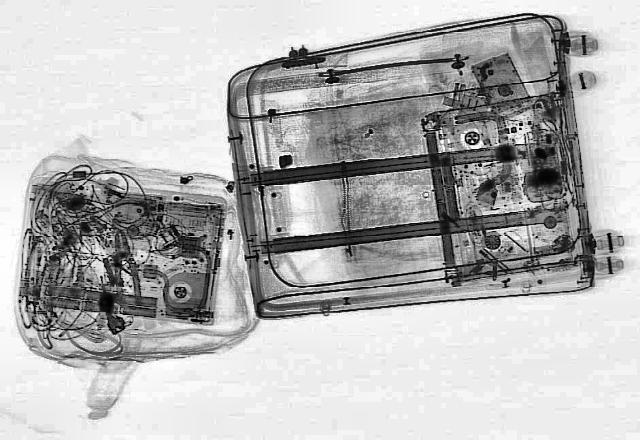Pliers: (106, 229, 142, 305)
